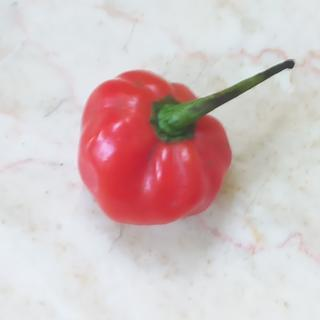Grade-B: (71, 60, 235, 227)
